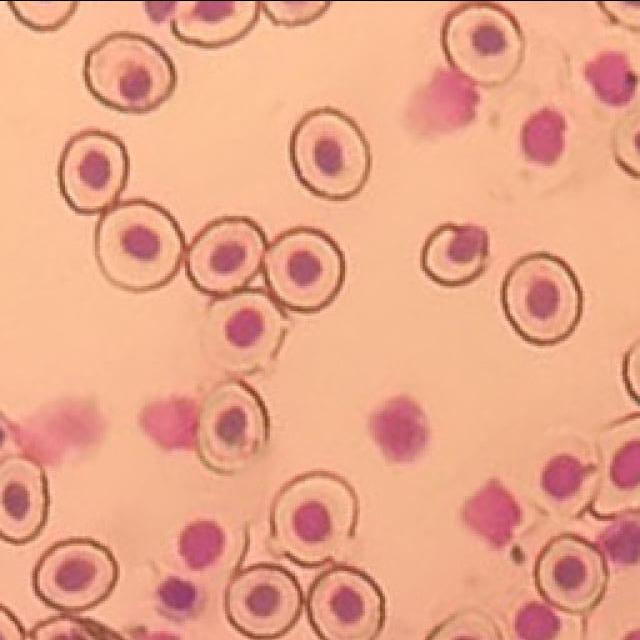RBC: (272, 470, 359, 565), (96, 199, 185, 291), (502, 251, 582, 345), (291, 108, 371, 199), (86, 32, 176, 110), (442, 1, 525, 85), (264, 226, 345, 311), (204, 291, 289, 371), (197, 380, 270, 470), (34, 538, 119, 610), (188, 218, 266, 294), (532, 428, 600, 515), (536, 534, 609, 612), (309, 566, 385, 640), (226, 564, 302, 638), (60, 130, 128, 212), (592, 412, 640, 516), (0, 455, 50, 542), (422, 222, 489, 286), (508, 591, 584, 640), (31, 616, 125, 640), (428, 610, 502, 640), (613, 111, 639, 178), (262, 0, 331, 25)
WBC: (406, 68, 480, 138), (464, 479, 522, 546), (372, 396, 429, 461), (142, 396, 199, 449), (585, 52, 638, 105), (522, 108, 568, 164), (180, 520, 225, 569), (599, 518, 640, 564), (158, 576, 198, 610), (145, 0, 179, 22)
